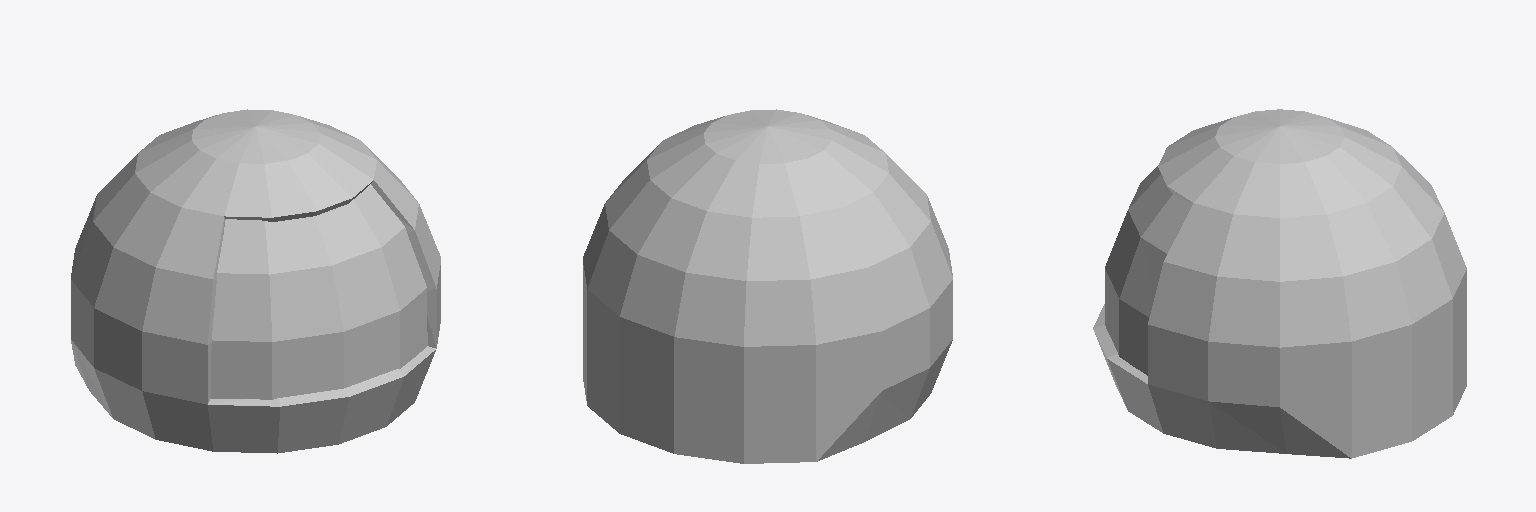
Rendered from space_helmit.obj.
The picture shows the model from 3 angles: view 1: azimuth 30°, elevation 25°; view 2: azimuth 150°, elevation 25°; view 3: azimuth 270°, elevation 25°; orthographic projection.
Visible parts, largest first — view 1: Sphere, Mask; view 2: Sphere; view 3: Sphere, Mask.
Part boxes in pixels (x1,y1,x2,y2): Sphere: (71, 109, 440, 453); Mask: (211, 184, 427, 399); Sphere: (583, 109, 952, 463); Sphere: (1093, 109, 1466, 458); Mask: (1105, 166, 1192, 375).
Size of the model in its own units: 1.97 by 1.51 by 1.97.